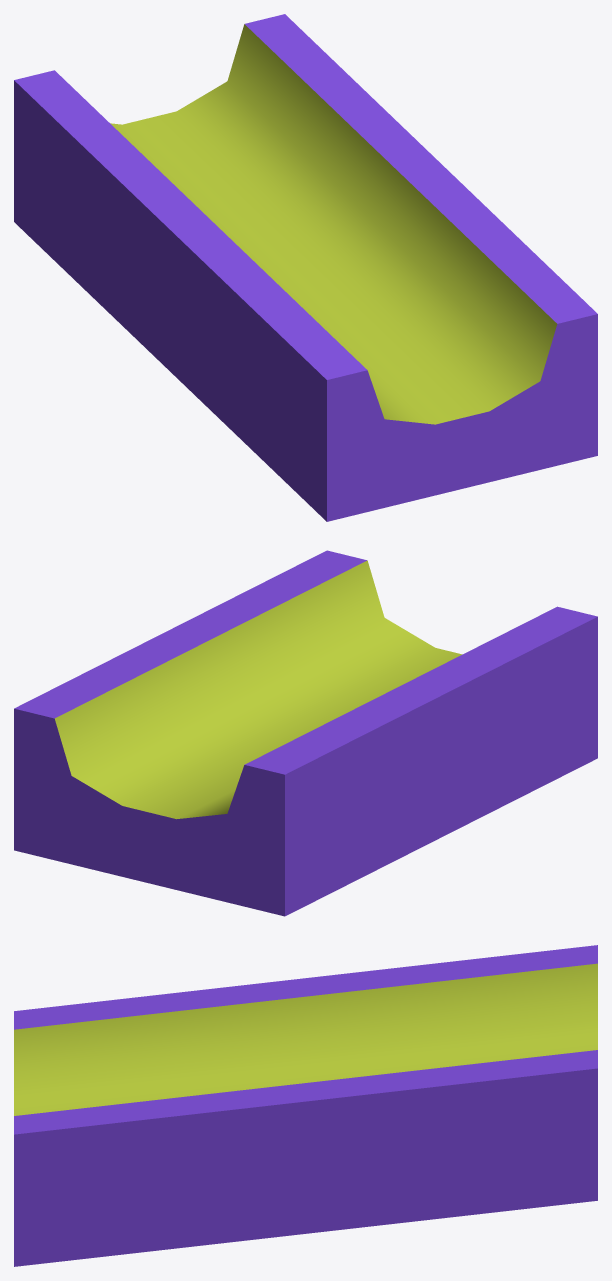
File: slant_long_A-col.dae
3 views of the same model, one above another, from view 1: azimuth 30°, elevation 25°; view 2: azimuth 150°, elevation 25°; view 3: azimuth 270°, elevation 25° (orthographic). The views are drawn at different scales.
Parts seen in each view (by area): view 1: slant_long_A-col; view 2: slant_long_A-col; view 3: slant_long_A-col.
Boxes of the visible parts, x1,y1,x2,y2 form: slant_long_A-col: [14, 14, 597, 521]; slant_long_A-col: [14, 550, 597, 916]; slant_long_A-col: [14, 945, 597, 1266].
Bounding box in the file's own units: 1 × 2 × 0.75.
